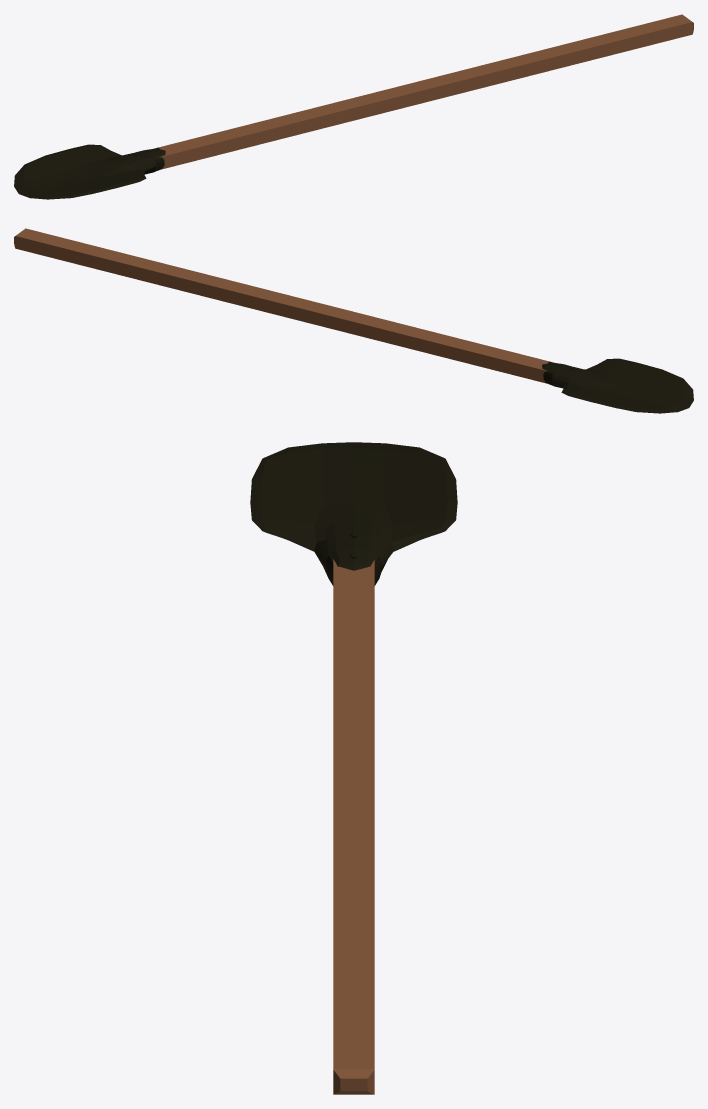
File: shovel.fbx
3 views of the same model, one above another, from view 1: azimuth 30°, elevation 25°; view 2: azimuth 150°, elevation 25°; view 3: azimuth 270°, elevation 25° (orthographic). The views are drawn at different scales.
Parts seen in each view (by area): view 1: Stick, Shovel; view 2: Stick, Shovel; view 3: Stick, Shovel.
Boxes of the visible parts, x1,y1,x2,y2 form: Stick: (153,14,693,169); Shovel: (14,144,165,199); Stick: (14,228,554,383); Shovel: (542,358,693,413); Stick: (333,559,374,1094); Shovel: (250,442,457,585).
Bounding box in the file's own units: 100 × 2.93 × 13.39.
